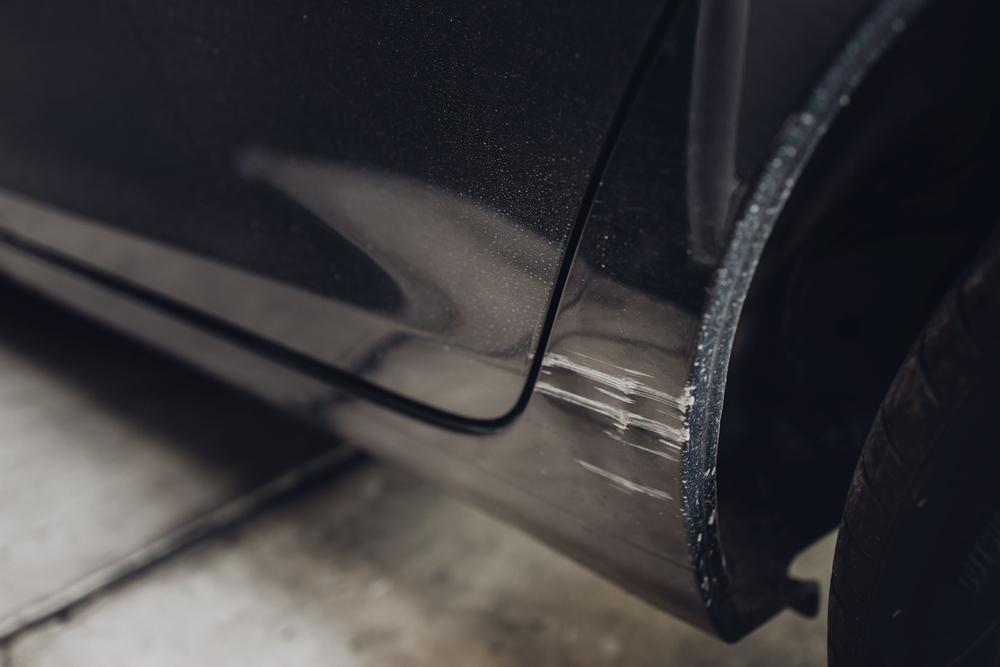scratch: (533, 341, 701, 509)
